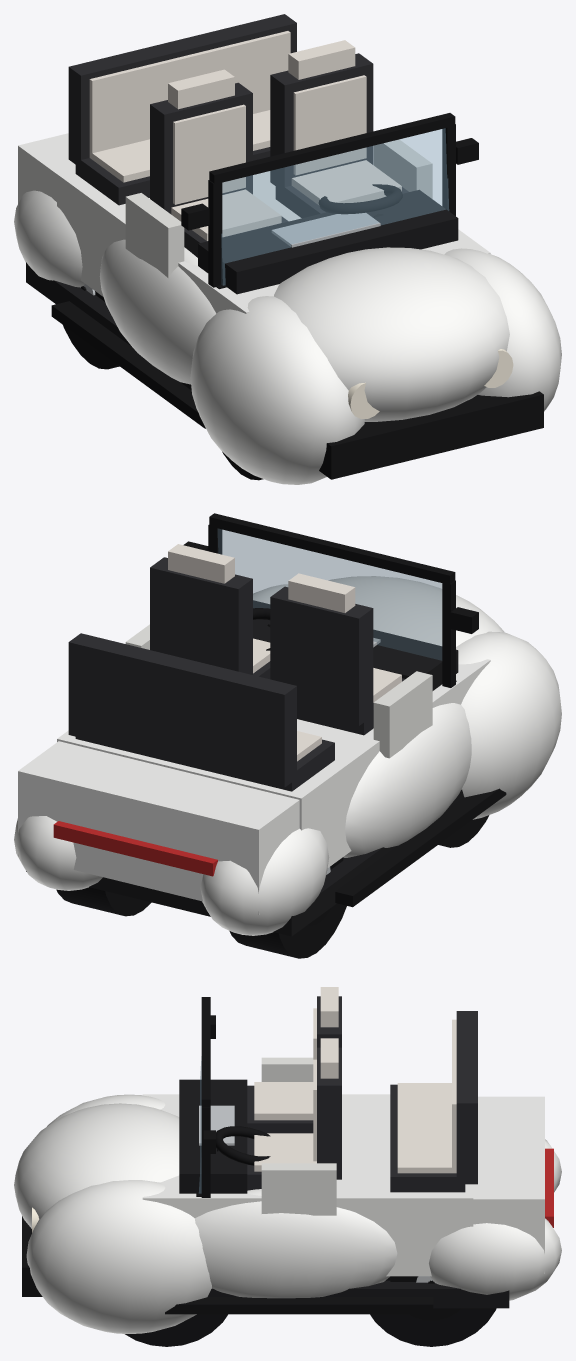
File: yamaha.glb
The picture shows the model from 3 angles, top to bottom: view 1: azimuth 30°, elevation 25°; view 2: azimuth 150°, elevation 25°; view 3: azimuth 270°, elevation 25°; orthographic projection. The views are drawn at different scales.
Visible parts, largest first — view 1: cart-yamaha; view 2: cart-yamaha; view 3: cart-yamaha.
Part boxes in pixels (bbox=[...]): cart-yamaha: bbox=[14, 14, 561, 484]; cart-yamaha: bbox=[14, 513, 561, 958]; cart-yamaha: bbox=[14, 987, 561, 1346].
Size of the model in its own units: 1.85 by 1.69 by 3.06.
